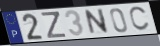0: (109, 7, 129, 34)
2: (21, 12, 45, 41)
3: (64, 9, 86, 38)
C: (128, 6, 151, 32)
N: (84, 8, 110, 36)
Z: (40, 11, 68, 40)
